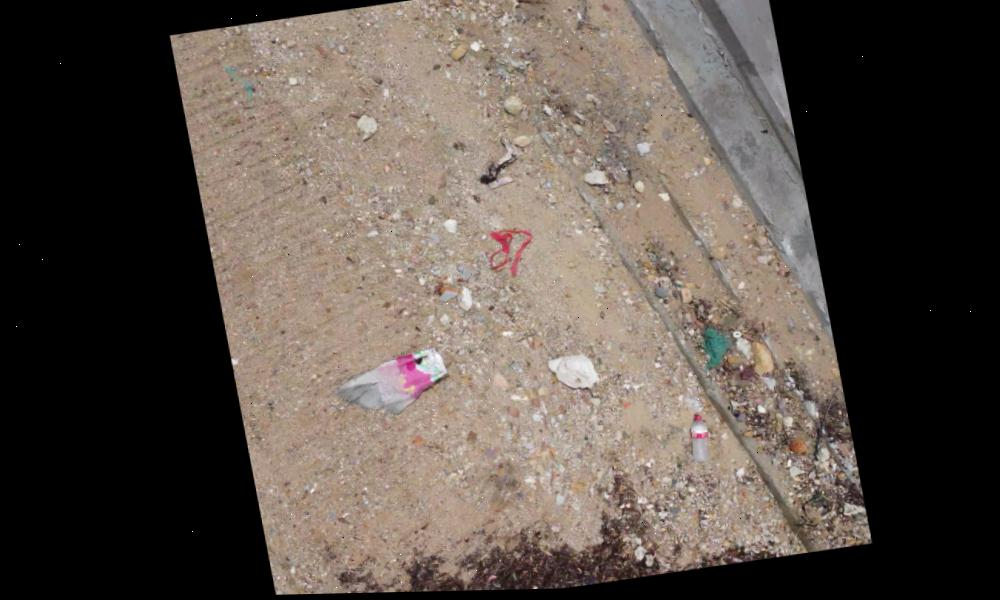plastic bag: (329, 343, 448, 422), (676, 412, 715, 470)
